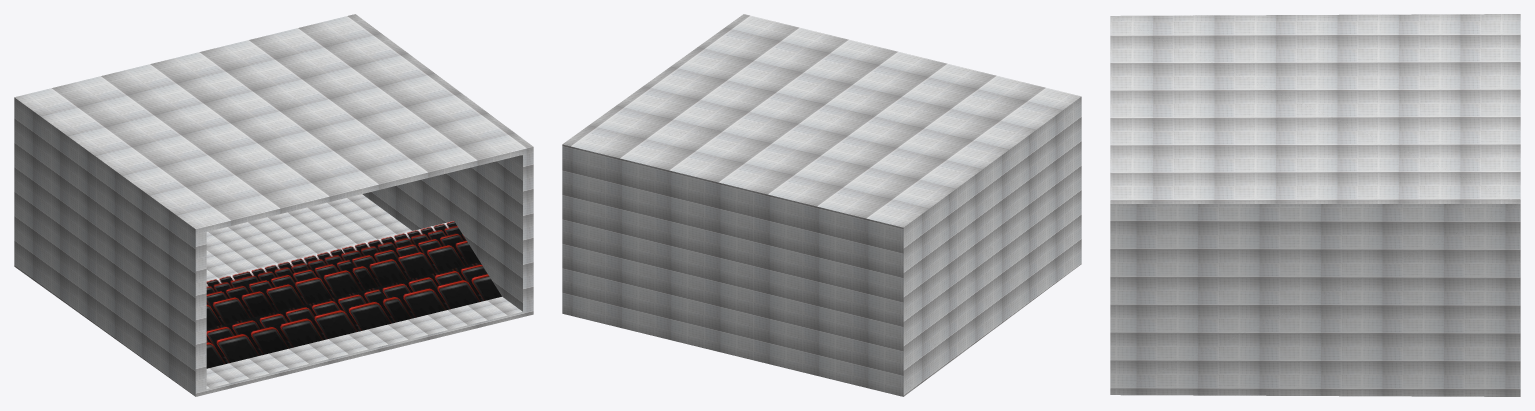
Rendered from theatre-fbx 1.fbx.
3 views of the same model, side by side, from view 1: azimuth 30°, elevation 25°; view 2: azimuth 150°, elevation 25°; view 3: azimuth 270°, elevation 25° (orthographic). The views are drawn at different scales.
Visible parts, largest first — view 1: pCube1, pPlane1; view 2: pCube1; view 3: pCube1.
Part boxes in pixels (bbox=[...]): pCube1: bbox=[14, 14, 533, 396]; pPlane1: bbox=[206, 221, 501, 368]; pCube1: bbox=[562, 14, 1081, 396]; pCube1: bbox=[1110, 14, 1520, 396].
Size of the model in its own units: 1998 by 947 by 1824.
Materials: 4 (3 with a texture image).
